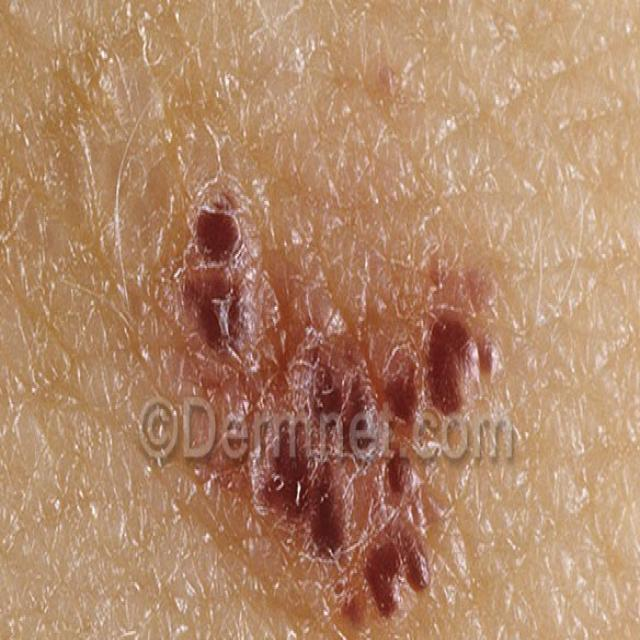Vascular Tumors: (163, 167, 508, 640)
